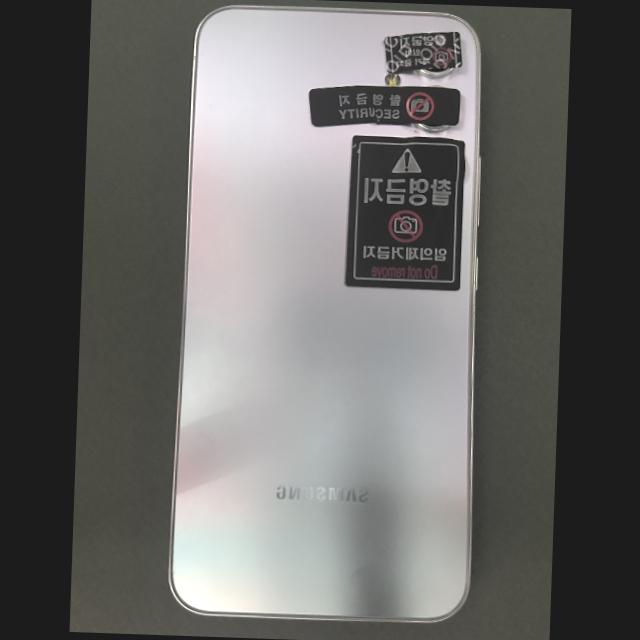lens: (415, 68, 452, 77), (412, 123, 449, 131)
phone: (169, 7, 479, 621)
sticker: (345, 136, 463, 289), (308, 86, 459, 126), (383, 33, 461, 73)
